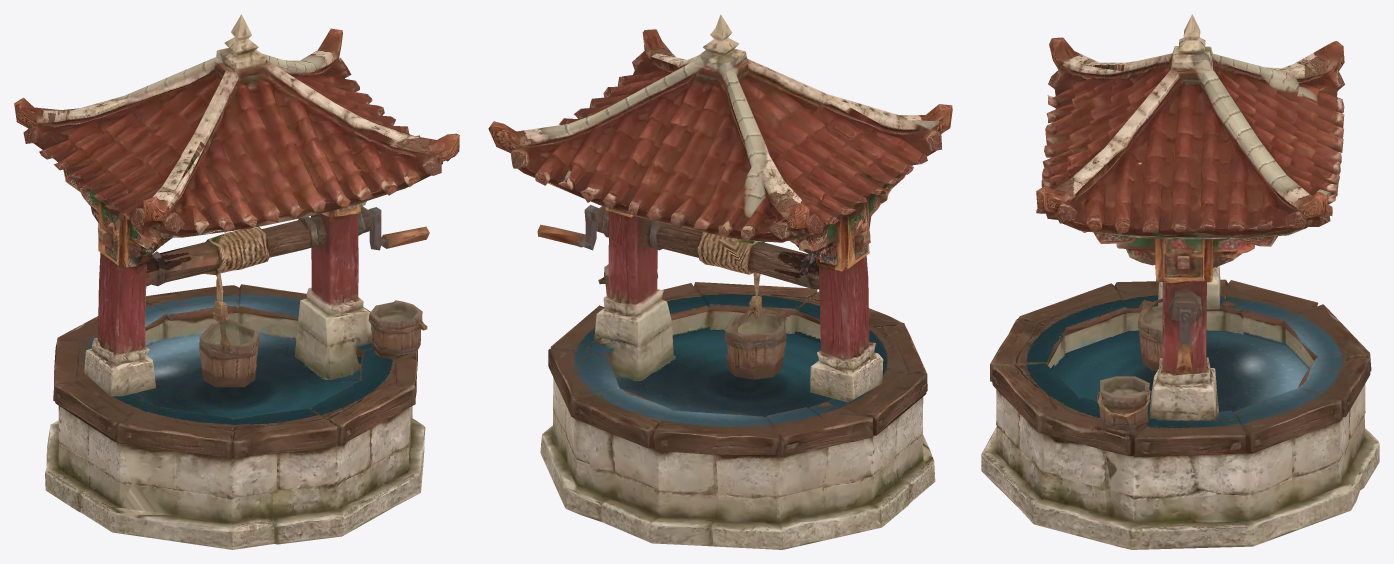
Rendered from prop_well.91698658.glb.
3 views of the same model, side by side, from view 1: azimuth 30°, elevation 25°; view 2: azimuth 150°, elevation 25°; view 3: azimuth 270°, elevation 25° (orthographic). The views are drawn at different scales.
Visible parts, largest first — view 1: tripo_node_5191de6d-3ab8-41c4-b1b9-0c63a9184306; view 2: tripo_node_5191de6d-3ab8-41c4-b1b9-0c63a9184306; view 3: tripo_node_5191de6d-3ab8-41c4-b1b9-0c63a9184306.
Boxes of the visible parts, x1=… form: tripo_node_5191de6d-3ab8-41c4-b1b9-0c63a9184306: x1=14, y1=14, x2=459, y2=549; tripo_node_5191de6d-3ab8-41c4-b1b9-0c63a9184306: x1=488, y1=14, x2=952, y2=549; tripo_node_5191de6d-3ab8-41c4-b1b9-0c63a9184306: x1=981, y1=14, x2=1379, y2=549.
Size of the model in its own units: 2.26 by 2.7 by 2.12.
Materials: 1 (1 with a texture image).
